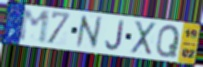7: (46, 10, 72, 46)
J: (104, 20, 125, 52)
M: (18, 8, 52, 46)
N: (75, 14, 103, 50)
Q: (155, 24, 182, 59)
X: (130, 20, 158, 57)
